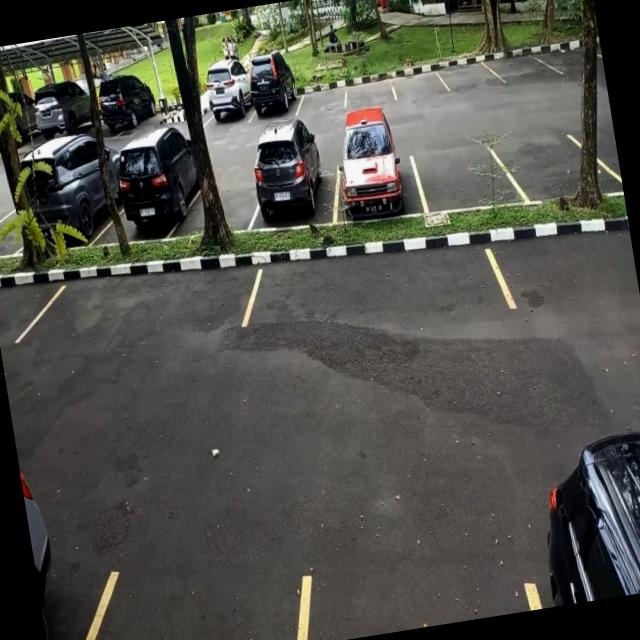car: (110, 131, 202, 248), (328, 120, 424, 225), (246, 132, 342, 234), (198, 58, 255, 130), (244, 62, 302, 125)
free: (248, 228, 511, 355), (23, 252, 256, 363), (502, 125, 608, 207), (413, 136, 515, 216), (489, 41, 552, 86), (390, 60, 447, 102), (440, 51, 494, 94), (342, 70, 397, 110), (297, 76, 348, 118)
